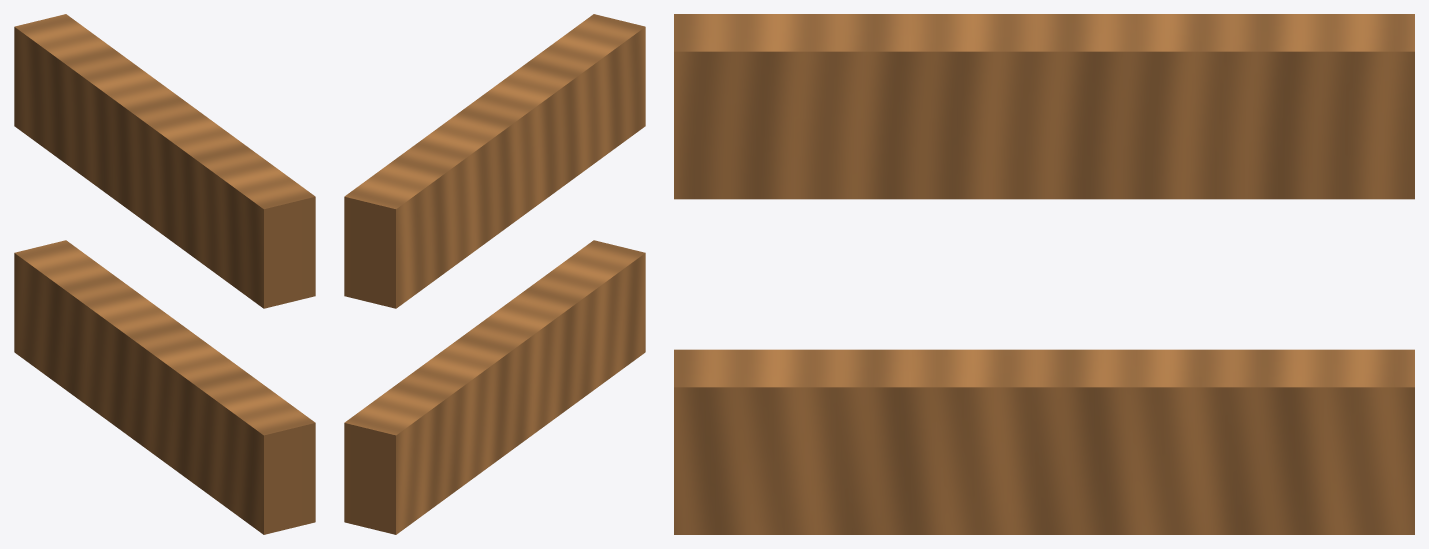
File: Fence_Rail.fbx
3 views of the same model, side by side, from view 1: azimuth 30°, elevation 25°; view 2: azimuth 150°, elevation 25°; view 3: azimuth 270°, elevation 25° (orthographic). The views are drawn at different scales.
Parts seen in each view (by area): view 1: Fence_Rail; view 2: Fence_Rail; view 3: Fence_Rail.
Part boxes in pixels (x1,y1,x2,y2): Fence_Rail: [14, 14, 315, 534]; Fence_Rail: [344, 14, 645, 534]; Fence_Rail: [674, 14, 1414, 534].
Bounding box in the file's own units: 0.06 × 0.36 × 0.5.
1 material, 1 textured.
